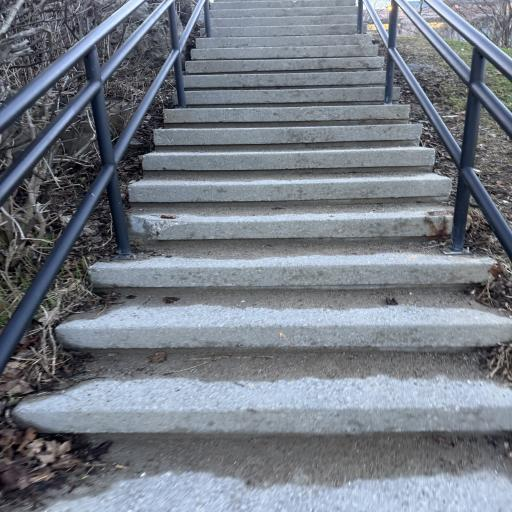Stairs: (13, 0, 512, 511)
